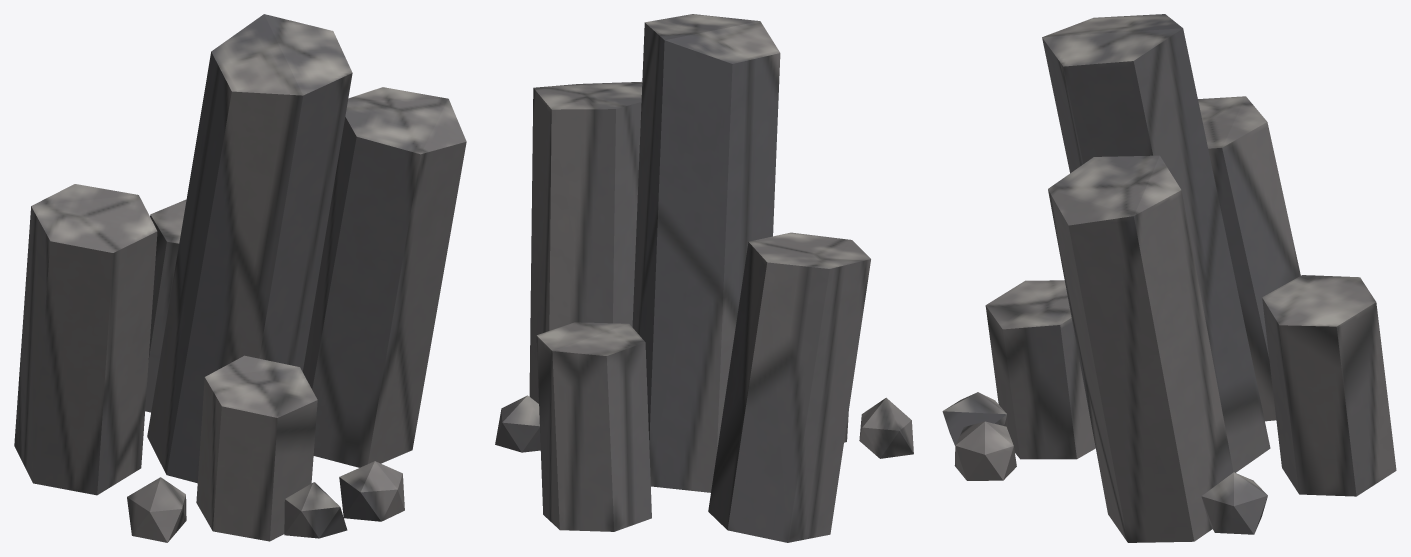
The model's file is basalt_rock_b_lod1.gltf.
3 views of the same model, side by side, from view 1: azimuth 30°, elevation 25°; view 2: azimuth 150°, elevation 25°; view 3: azimuth 270°, elevation 25° (orthographic). The views are drawn at different scales.
Visible parts, largest first — view 1: basalt_rock_b_LOD1; view 2: basalt_rock_b_LOD1; view 3: basalt_rock_b_LOD1.
Part boxes in pixels (x1,y1,x2,y2): basalt_rock_b_LOD1: (14,14,466,542); basalt_rock_b_LOD1: (495,14,913,542); basalt_rock_b_LOD1: (942,14,1396,542).
Size of the model in its own units: 1.74 by 1.99 by 1.79.
1 material, 1 textured.
